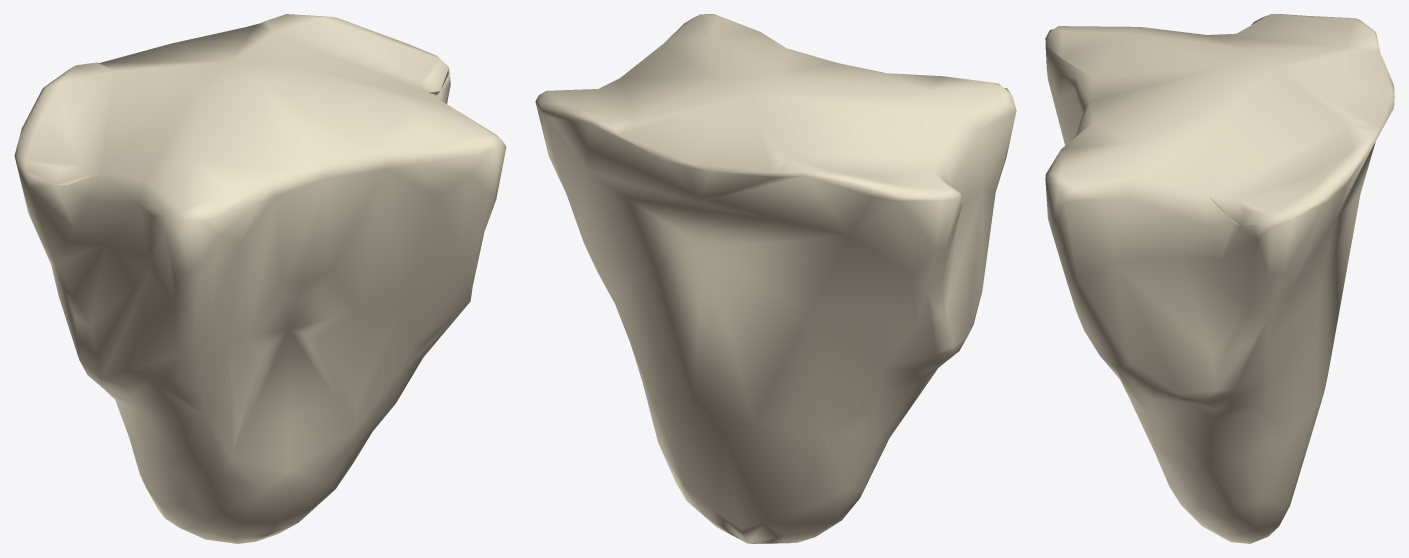
The model's file is esqueleto-xiphoid-process.glb.
The picture shows the model from 3 angles, left to right: view 1: azimuth 30°, elevation 25°; view 2: azimuth 150°, elevation 25°; view 3: azimuth 270°, elevation 25°; orthographic projection. The views are drawn at different scales.
Parts seen in each view (by area): view 1: Xiphoid process; view 2: Xiphoid process; view 3: Xiphoid process.
Boxes of the visible parts, left/top/right/bottom form: Xiphoid process: left=14, top=14, right=506, bottom=543; Xiphoid process: left=535, top=14, right=1016, bottom=543; Xiphoid process: left=1045, top=14, right=1394, bottom=543.
Size of the model in its own units: 0.0217 by 0.0226 by 0.0153.
